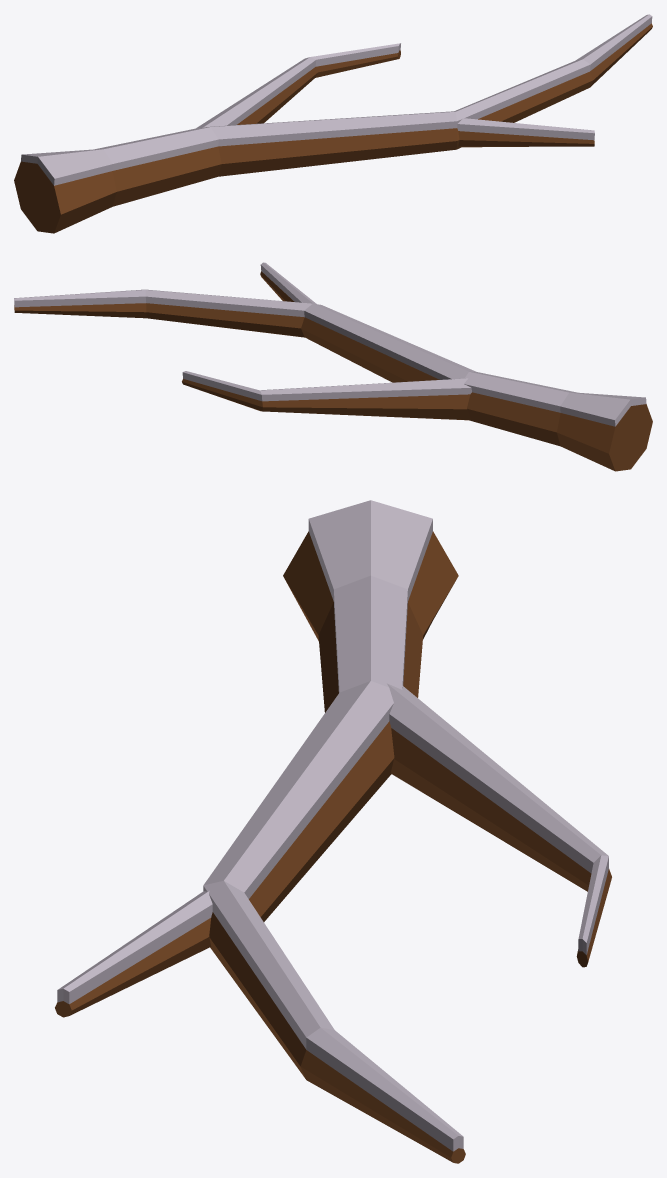
Rendered from DEAD TREE 5.fbx.
3 renders of one model, top to bottom at view 1: azimuth 30°, elevation 25°; view 2: azimuth 150°, elevation 25°; view 3: azimuth 270°, elevation 25°, orthographic. The views are drawn at different scales.
Parts seen in each view (by area): view 1: DEAD TREE 5; view 2: DEAD TREE 5; view 3: DEAD TREE 5.
Part boxes in pixels (<box>): DEAD TREE 5: <box>14,14,652,233</box>; DEAD TREE 5: <box>14,262,652,471</box>; DEAD TREE 5: <box>55,500,611,1163</box>.
Bounding box in the file's own units: 549 × 61.29 × 222.
